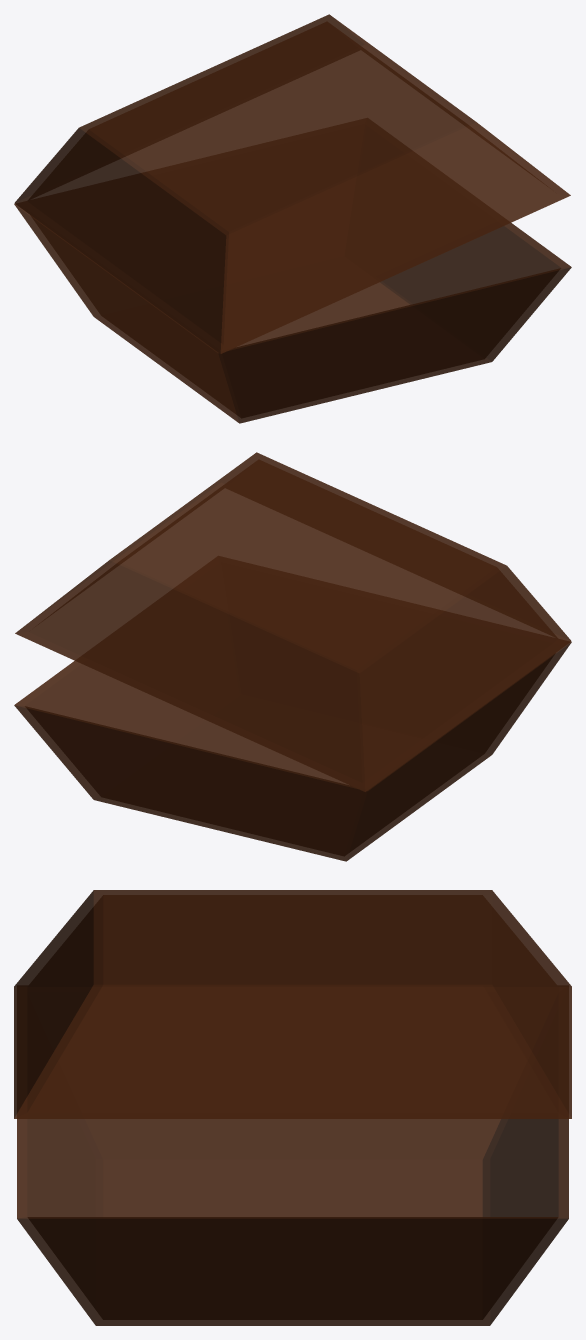
The model's file is plastic box.glb.
The picture shows the model from 3 angles, top to bottom: view 1: azimuth 30°, elevation 25°; view 2: azimuth 150°, elevation 25°; view 3: azimuth 270°, elevation 25°; orthographic projection. The views are drawn at different scales.
Parts seen in each view (by area): view 1: 平面.004; view 2: 平面.004; view 3: 平面.004.
Boxes of the visible parts, x1=… form: 平面.004: x1=14, y1=14, x2=571, y2=423; 平面.004: x1=14, y1=452, x2=571, y2=861; 平面.004: x1=14, y1=890, x2=571, y2=1325.
Bounding box in the file's own units: 2.91 × 1.92 × 2.94.
